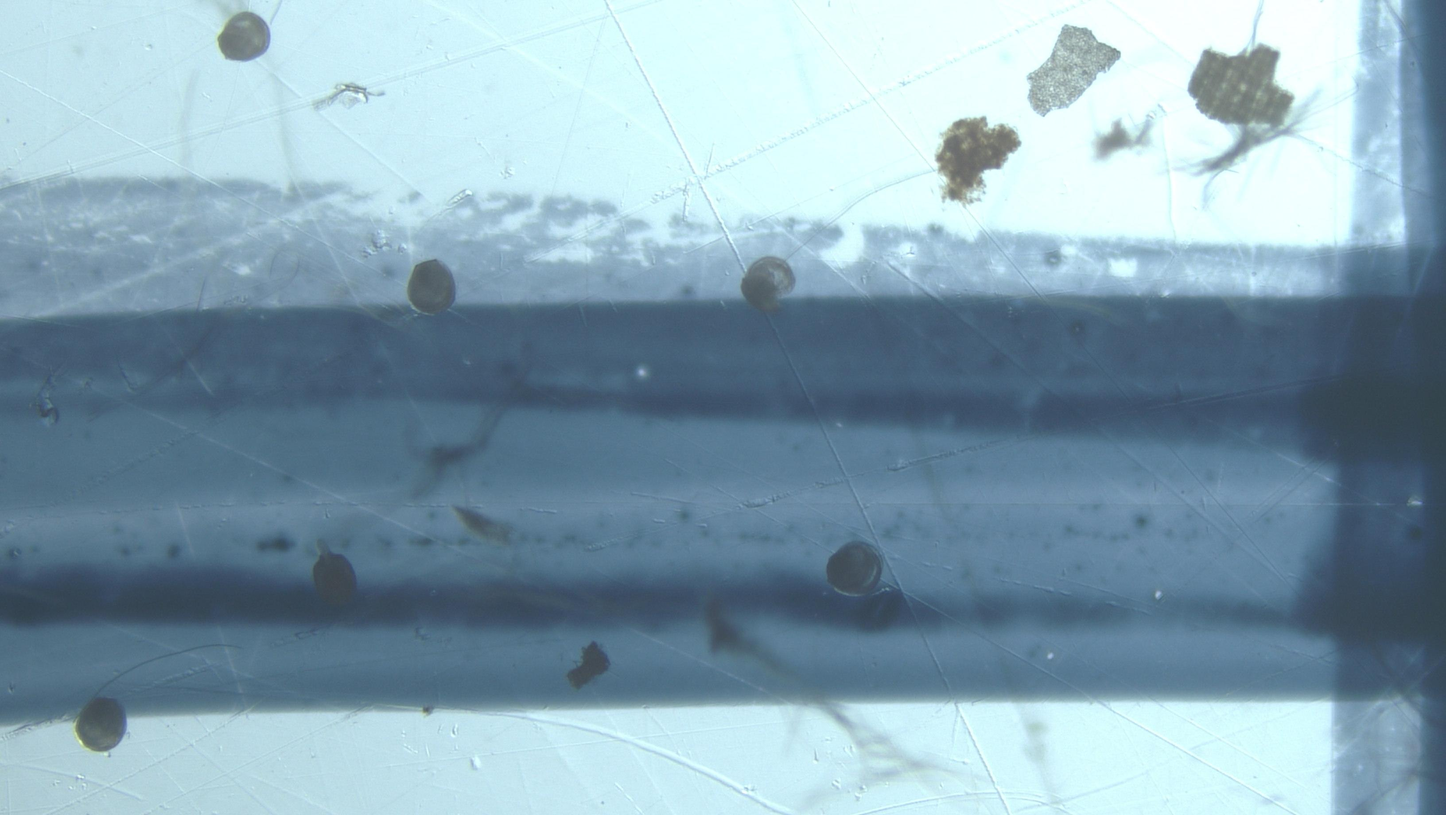live: (826, 541, 882, 596), (741, 256, 795, 313), (313, 541, 357, 606), (75, 697, 126, 753), (407, 259, 456, 314), (218, 12, 270, 62)
